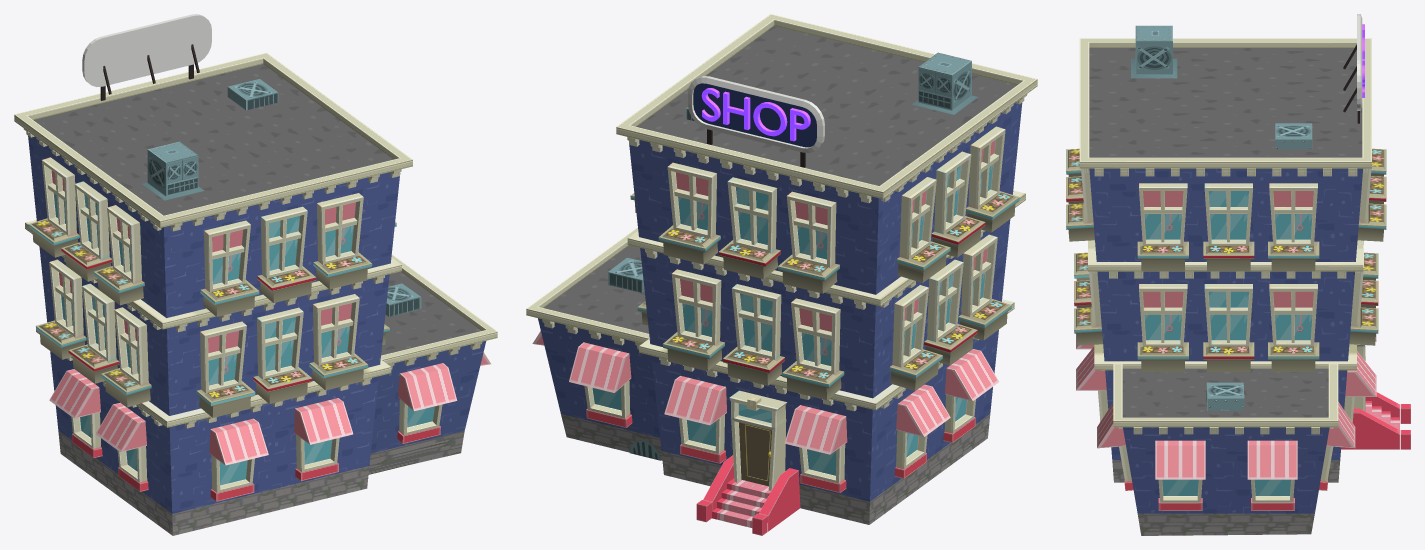
Rendered from shop-townhouse-blue_night.glb.
3 renders of one model, left to right at view 1: azimuth 30°, elevation 25°; view 2: azimuth 150°, elevation 25°; view 3: azimuth 270°, elevation 25°, orthographic. The views are drawn at different scales.
Visible parts, largest first — view 1: shop-townhouse-blue_body, sign_2; view 2: shop-townhouse-blue_body, sign_1, sign_2, sign_letters; view 3: shop-townhouse-blue_body, sign_2.
Part boxes in pixels (x1,y1,x2,y2): shop-townhouse-blue_body: (14, 53, 497, 535); sign_2: (82, 14, 211, 86); shop-townhouse-blue_body: (526, 14, 1037, 535); sign_1: (693, 83, 816, 147); sign_2: (688, 76, 824, 153); sign_letters: (701, 88, 810, 141); shop-townhouse-blue_body: (1066, 25, 1410, 535); sign_2: (1357, 14, 1362, 110).
Bounding box in the file's own units: 9.84 × 9.8 × 7.71.
18 materials, 14 textured.
